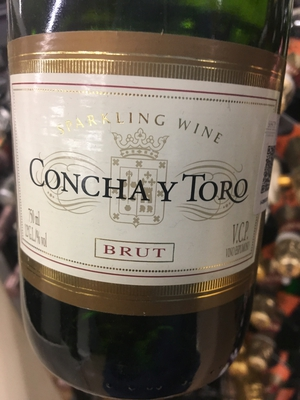brut: (5, 2, 287, 362)
